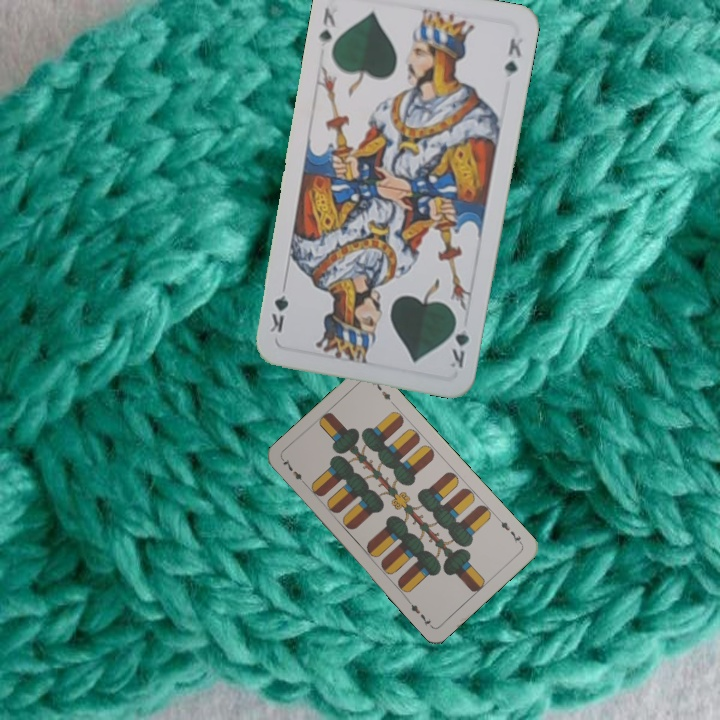E7: (279, 455, 310, 489), (494, 514, 525, 547)
GK: (446, 313, 472, 371), (314, 3, 338, 50)
